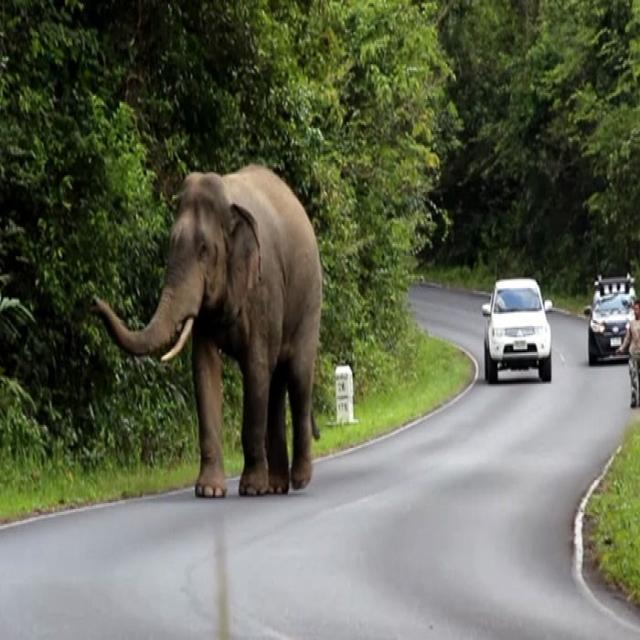Elephant: (98, 153, 336, 522)
